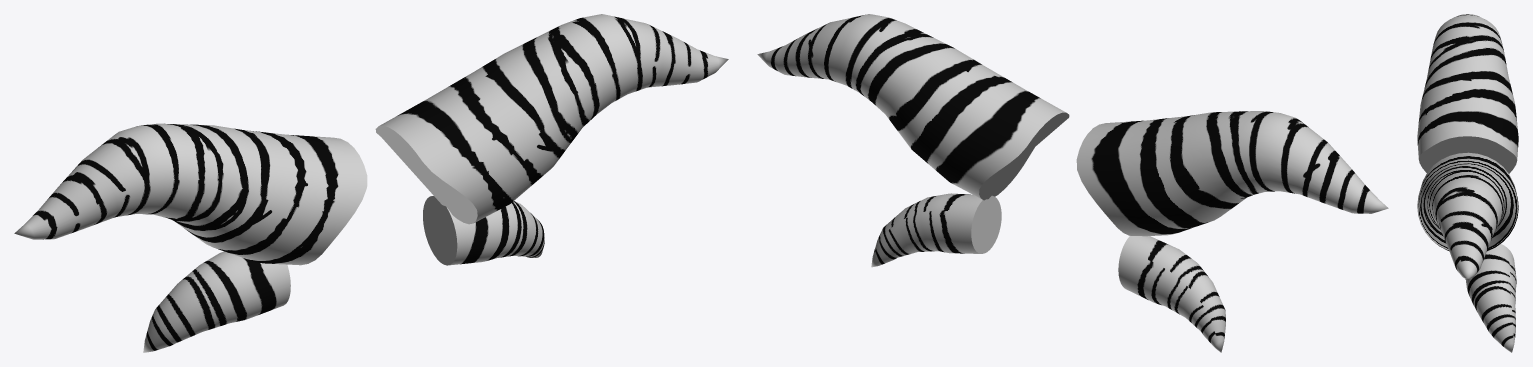
File: horns.glb
3 renders of one model, left to right at view 1: azimuth 30°, elevation 25°; view 2: azimuth 150°, elevation 25°; view 3: azimuth 270°, elevation 25°, orthographic. The views are drawn at different scales.
Parts seen in each view (by area): view 1: Circle.001, Circle; view 2: Circle.001, Circle; view 3: Circle.001, Circle.
Boxes of the visible parts, bbox=[...] form: Circle.001: bbox=[14, 14, 728, 265]; Circle: bbox=[143, 195, 544, 352]; Circle.001: bbox=[757, 14, 1388, 236]; Circle: bbox=[871, 193, 1225, 352]; Circle.001: bbox=[1417, 14, 1518, 278]; Circle: bbox=[1465, 184, 1516, 352].
Size of the model in its own units: 2.23 by 0.7498 by 0.3767.
2 materials, 2 textured.
